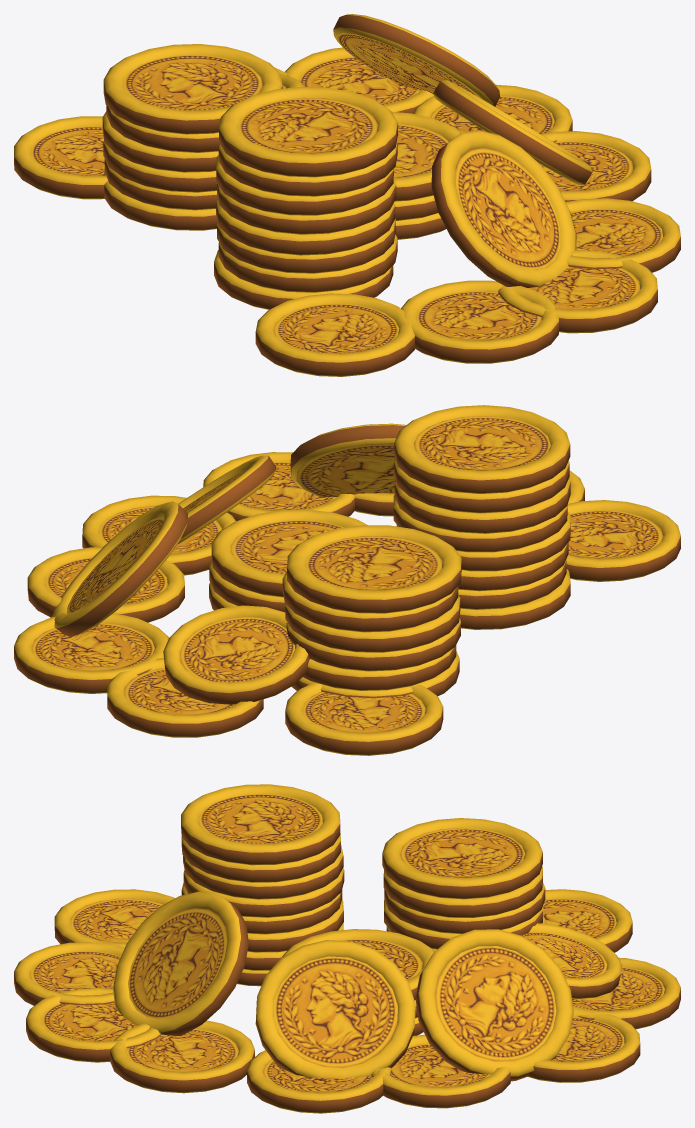
Rendered from item_6coinlg.glb.
The picture shows the model from 3 angles, top to bottom: view 1: azimuth 30°, elevation 25°; view 2: azimuth 150°, elevation 25°; view 3: azimuth 270°, elevation 25°; orthographic projection. The views are drawn at different scales.
Parts seen in each view (by area): view 1: 6coinlg; view 2: 6coinlg; view 3: 6coinlg.
Part boxes in pixels (bbox=[...]): 6coinlg: bbox=[14, 14, 680, 376]; 6coinlg: bbox=[14, 405, 680, 755]; 6coinlg: bbox=[14, 784, 680, 1113].
Size of the model in its own units: 0.0868 by 0.0269 by 0.1162.
1 material, 1 textured.
